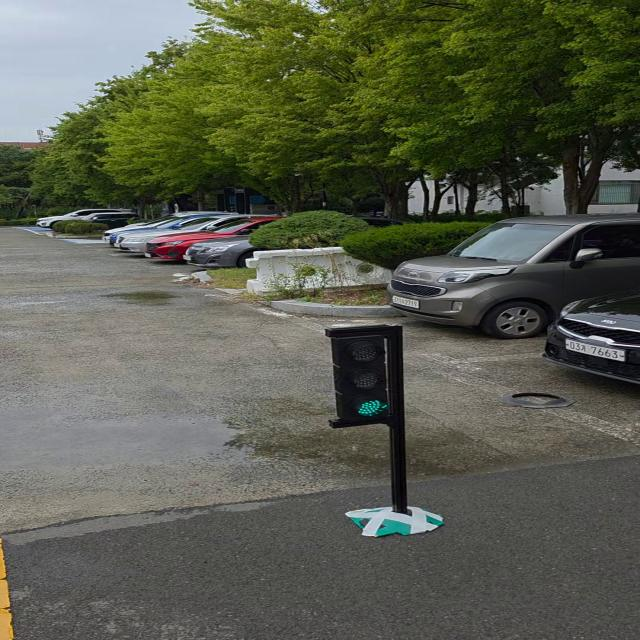green: (333, 327, 403, 421)
